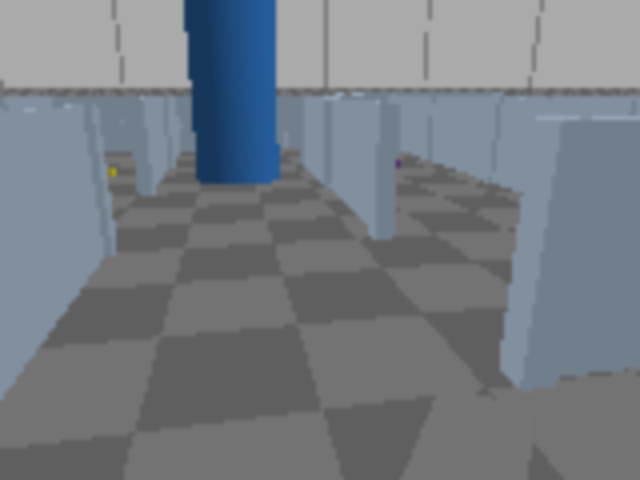obstacle: (385, 384, 535, 478)
